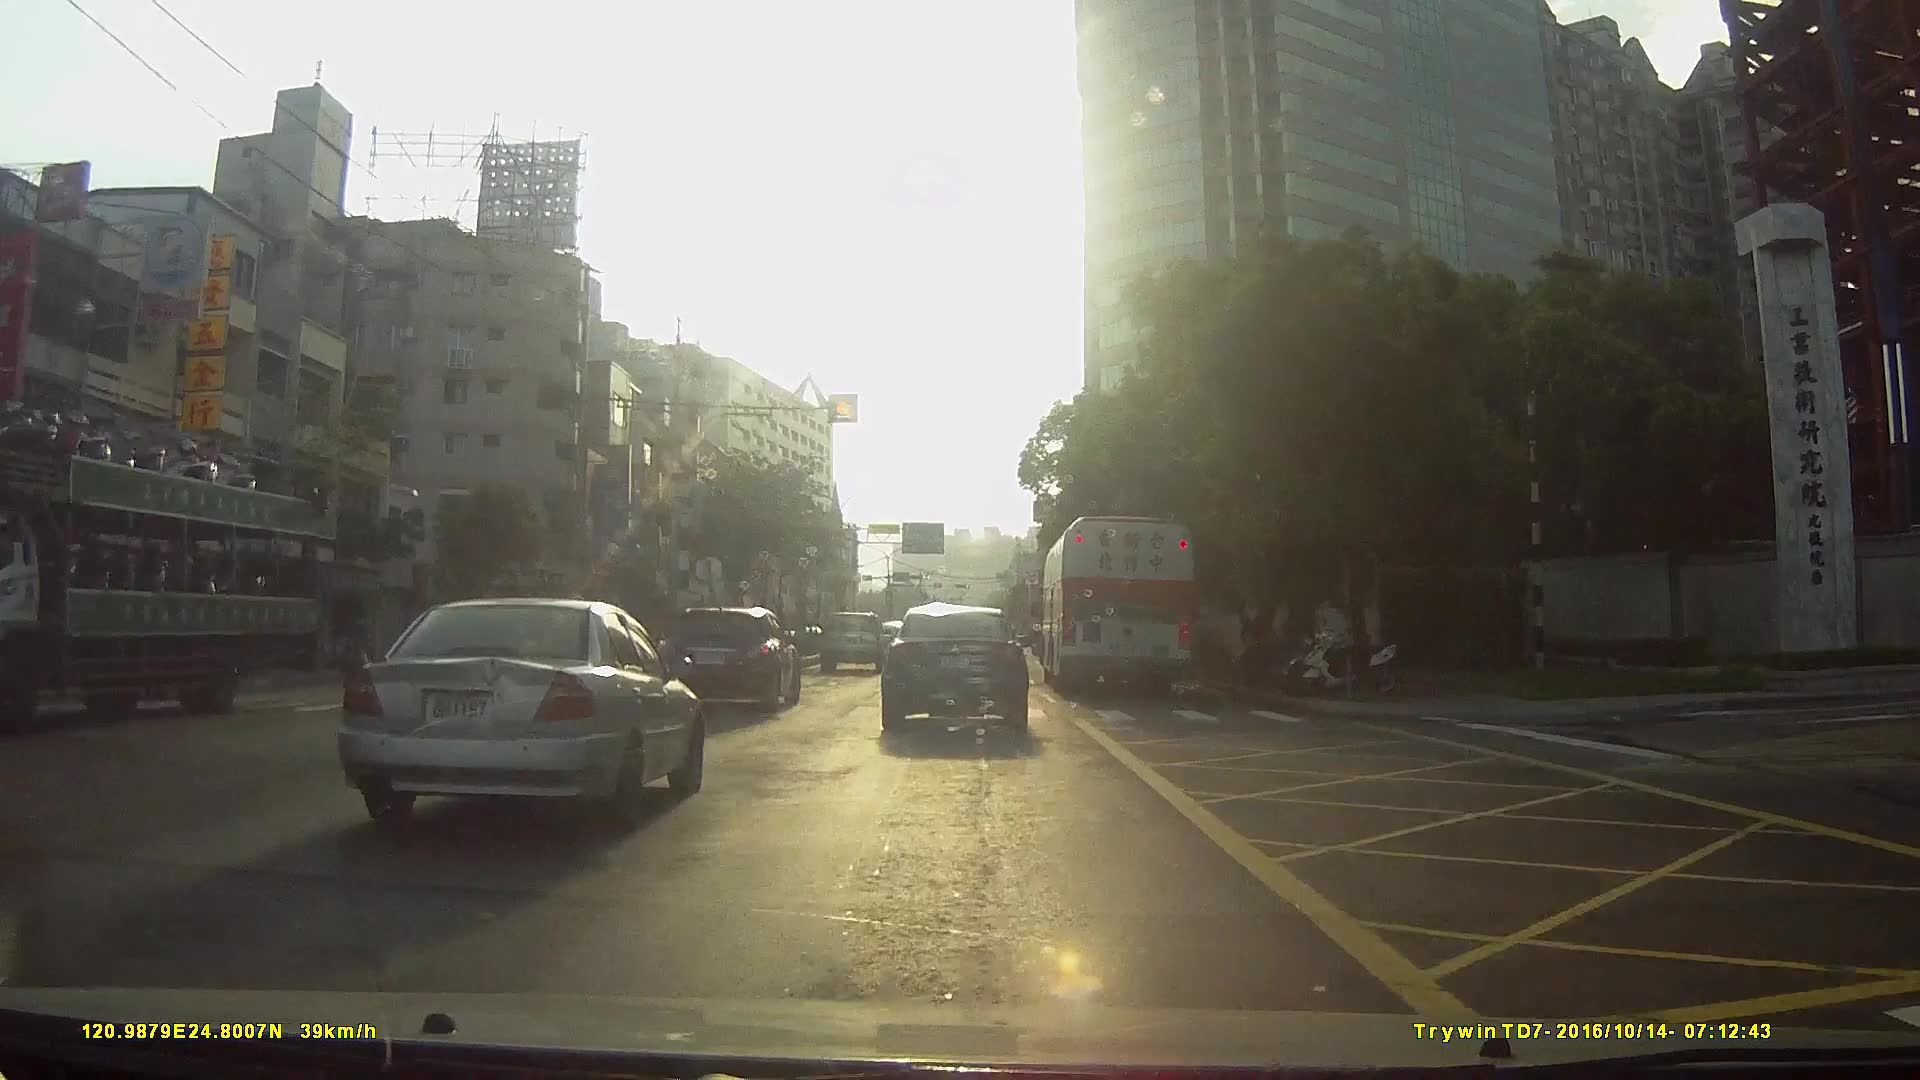rider: (343, 619, 380, 683)
vehicle: (1, 402, 349, 728), (332, 593, 702, 829), (1042, 514, 1200, 705), (878, 606, 1031, 745), (665, 604, 804, 713), (818, 611, 890, 677)
